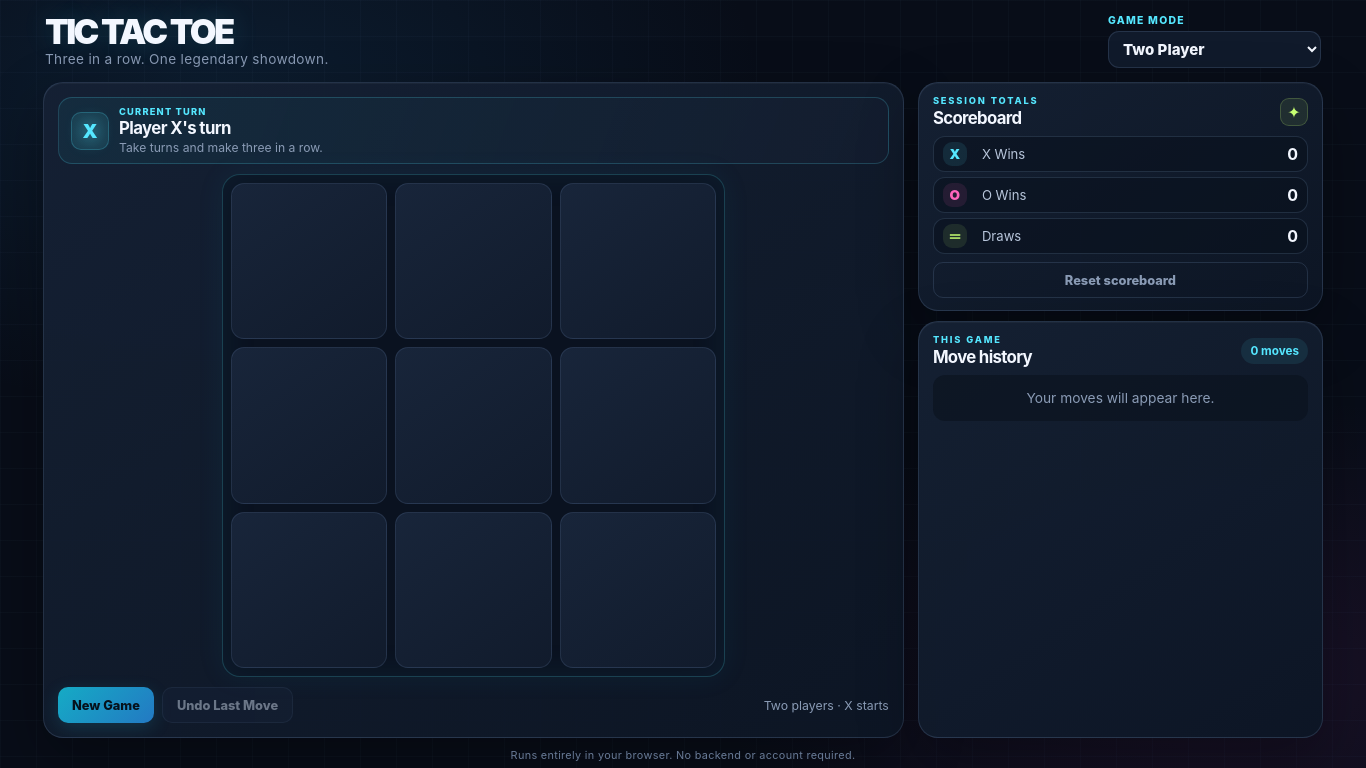
Test: detects and highlights a win and updates the score only once
Step 1. Click the button named "row 1, column 1, empty" → (309, 261), box [231,183,387,339]
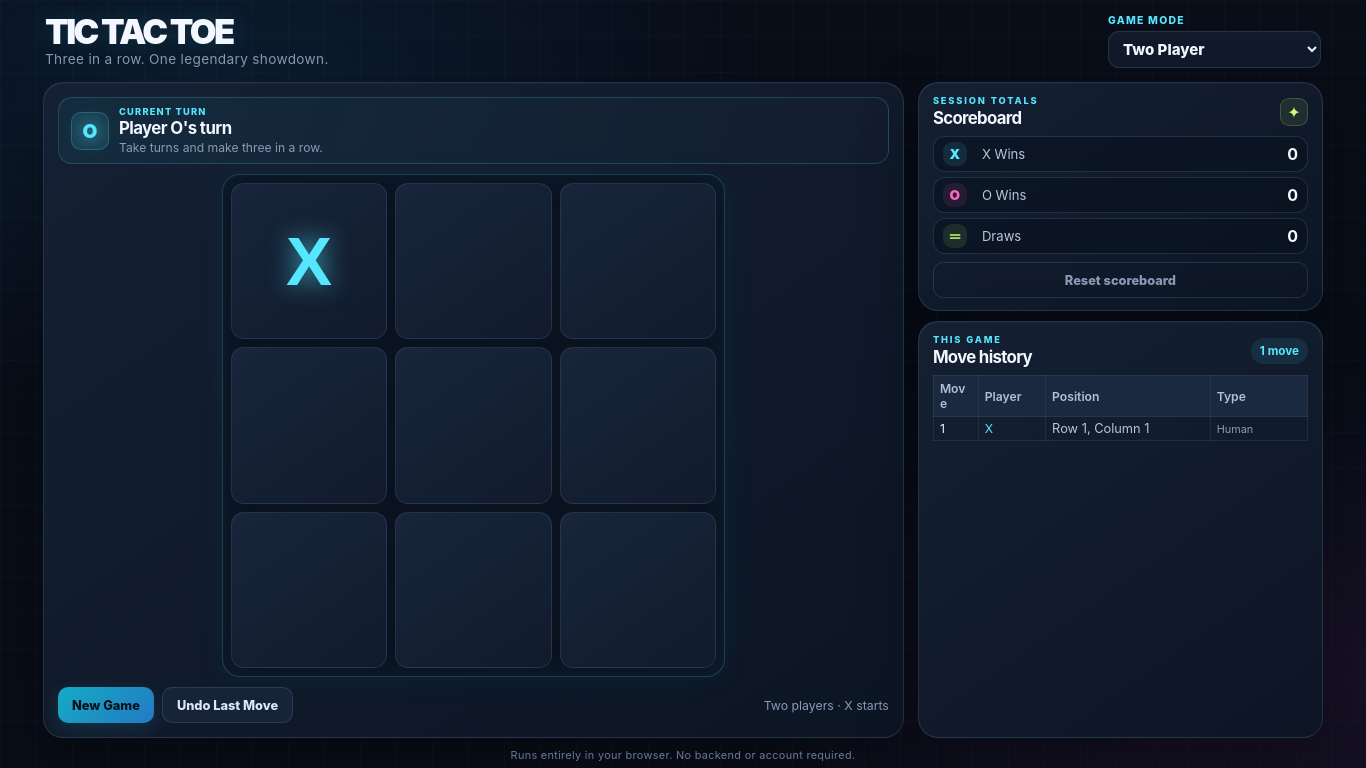
Step 2. Click the button named "row 2, column 1, empty" → (309, 425), box [231,347,387,504]
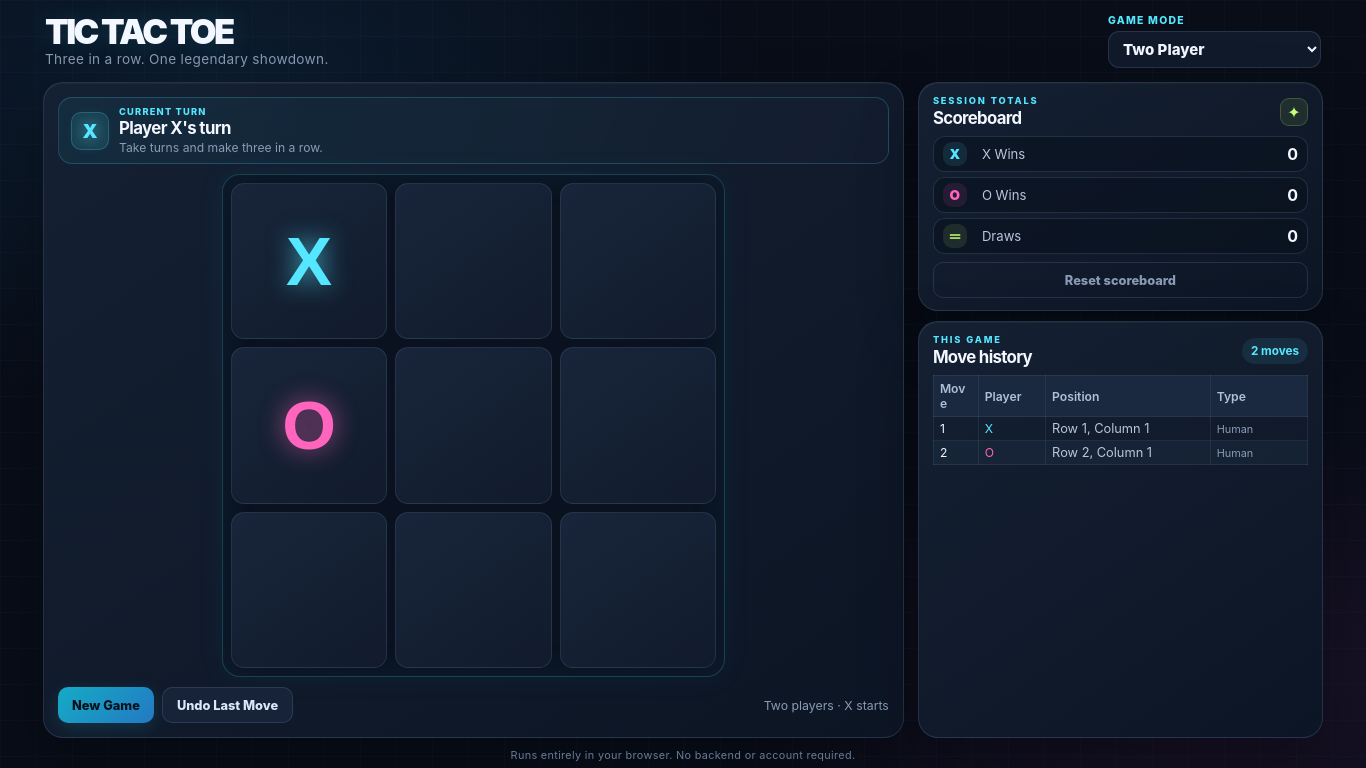
Step 3. Click the button named "row 1, column 2, empty" → (473, 261), box [395,183,552,339]
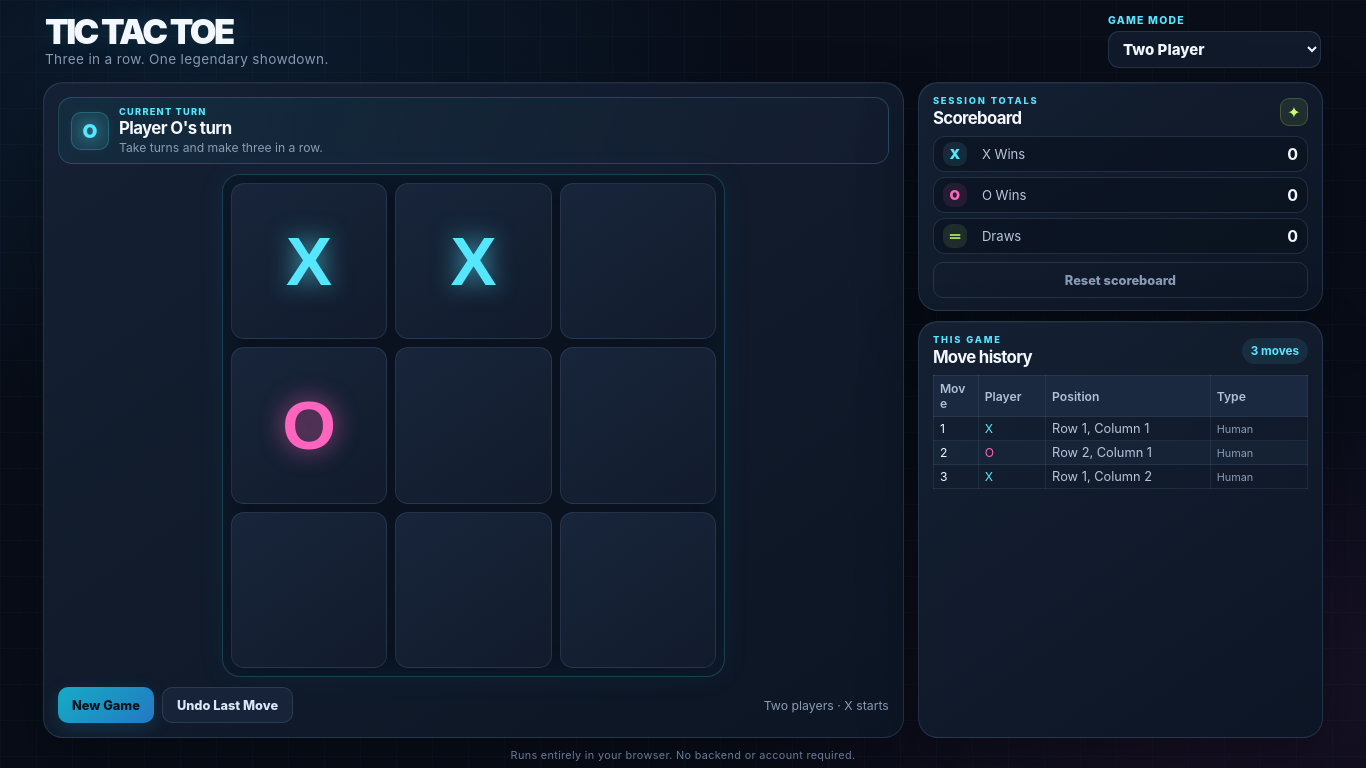
Step 4. Click the button named "row 2, column 2, empty" → (473, 425), box [395,347,552,504]
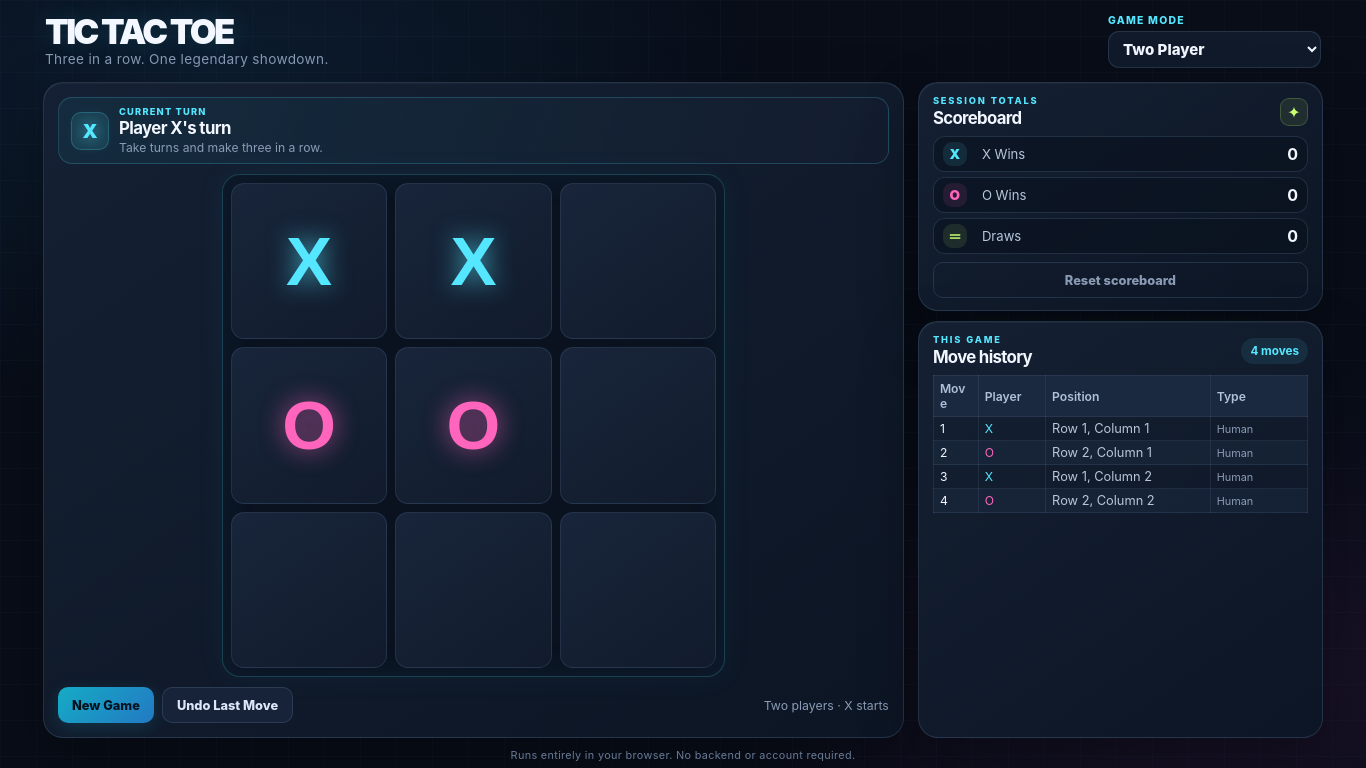
Step 5. Click the button named "row 1, column 3, empty" → (638, 261), box [560,183,716,339]
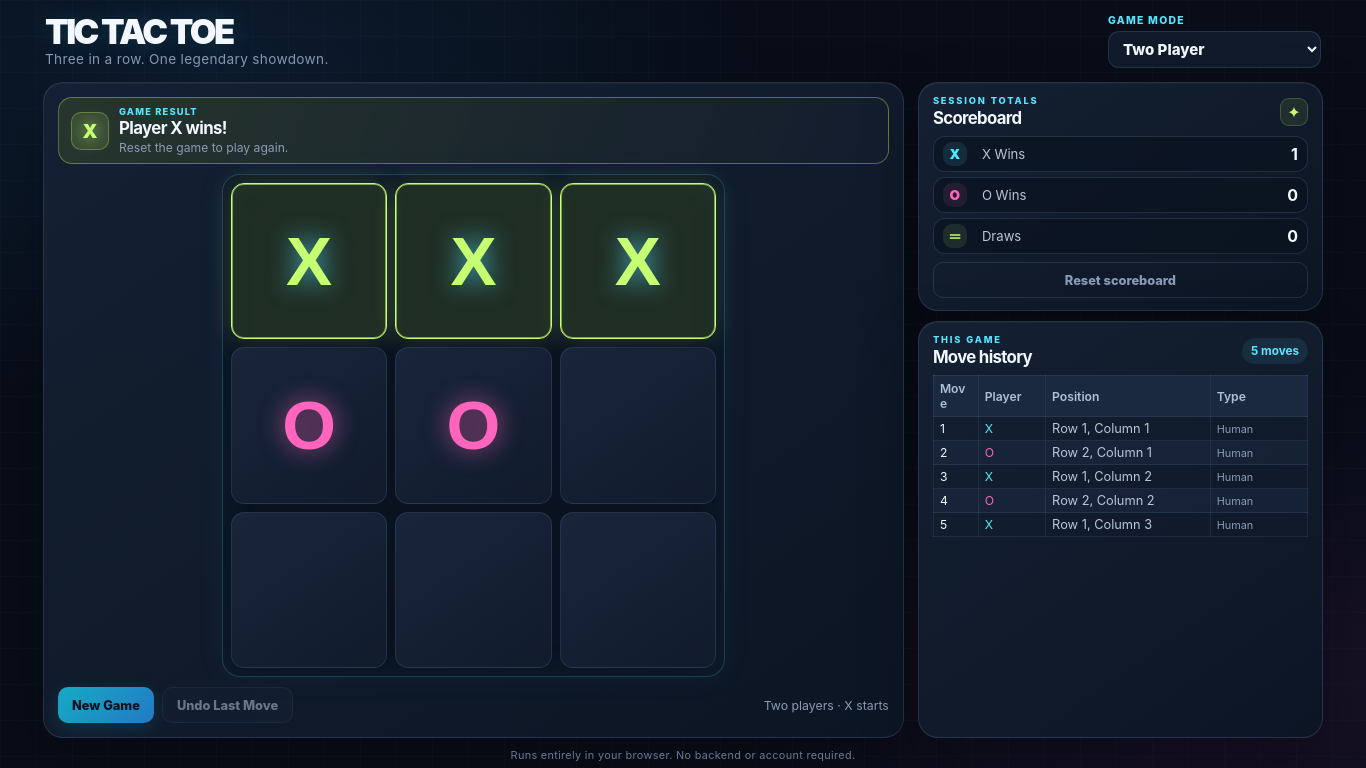
Expected: the button named "row 3, column 3, empty" is disabled, [560,512,716,668]
Result: the heading "Player X wins!" is shown at [119,118,227,138]
Result: the text "1" is shown at [1291,144,1298,164]
